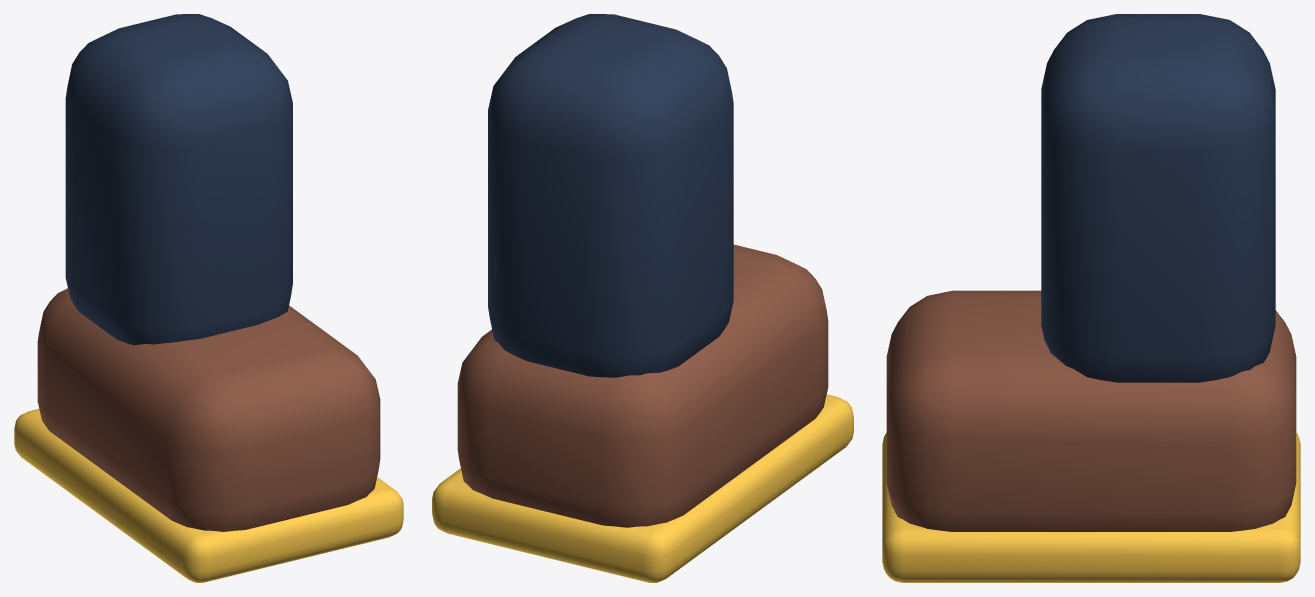
Rendered from hero_leg_r.gltf.
The picture shows the model from 3 angles, left to right: view 1: azimuth 30°, elevation 25°; view 2: azimuth 150°, elevation 25°; view 3: azimuth 270°, elevation 25°; orthographic projection. The views are drawn at different scales.
Parts seen in each view (by area): view 1: hero leg_r; view 2: hero leg_r; view 3: hero leg_r.
Boxes of the visible parts, x1,y1,x2,y2 form: hero leg_r: (14, 14, 403, 582); hero leg_r: (432, 14, 853, 582); hero leg_r: (882, 14, 1300, 582).
Bounding box in the file's own units: 0.34 × 0.65 × 0.5.
